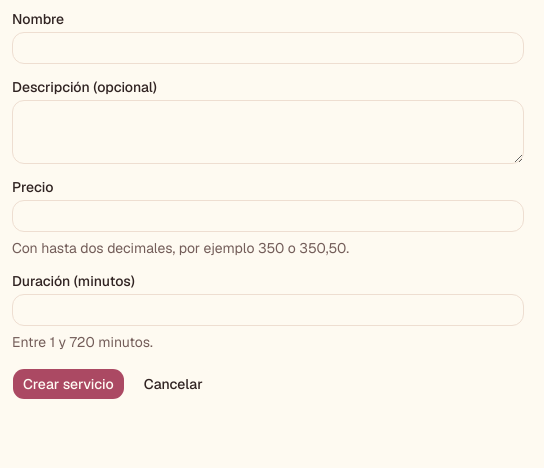
FormularioServicio › muestra el error de cada campo, lo marca inválido y conserva lo escrito
Type "abc" into the field labelled "Precio" at (268,216), box [12,200,524,232]
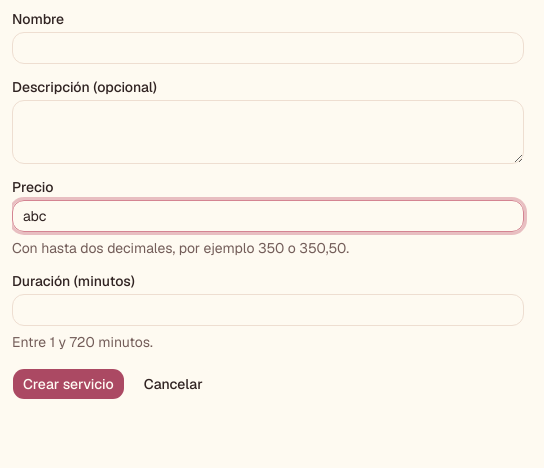
Type "60" into the field labelled "Duración (minutos)" at (268,310), box [12,294,524,326]
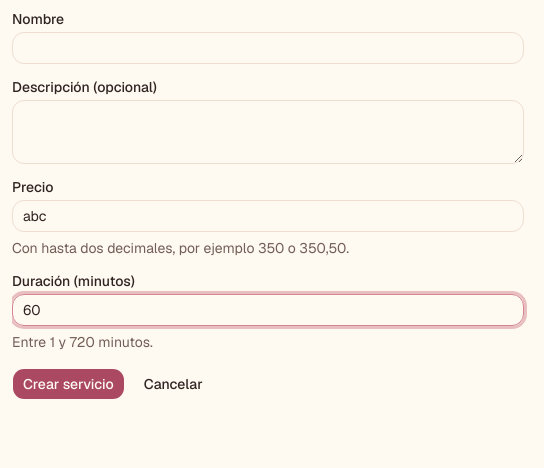
Click the button "Crear servicio" at (68,384), box [12,368,125,400]
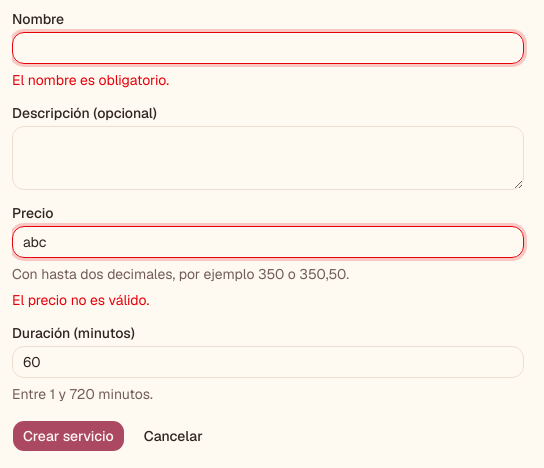
Result: the text "El nombre es obligatorio." is shown at [12,71,169,89]
Result: the text "El precio no es válido." is shown at [12,291,149,309]
